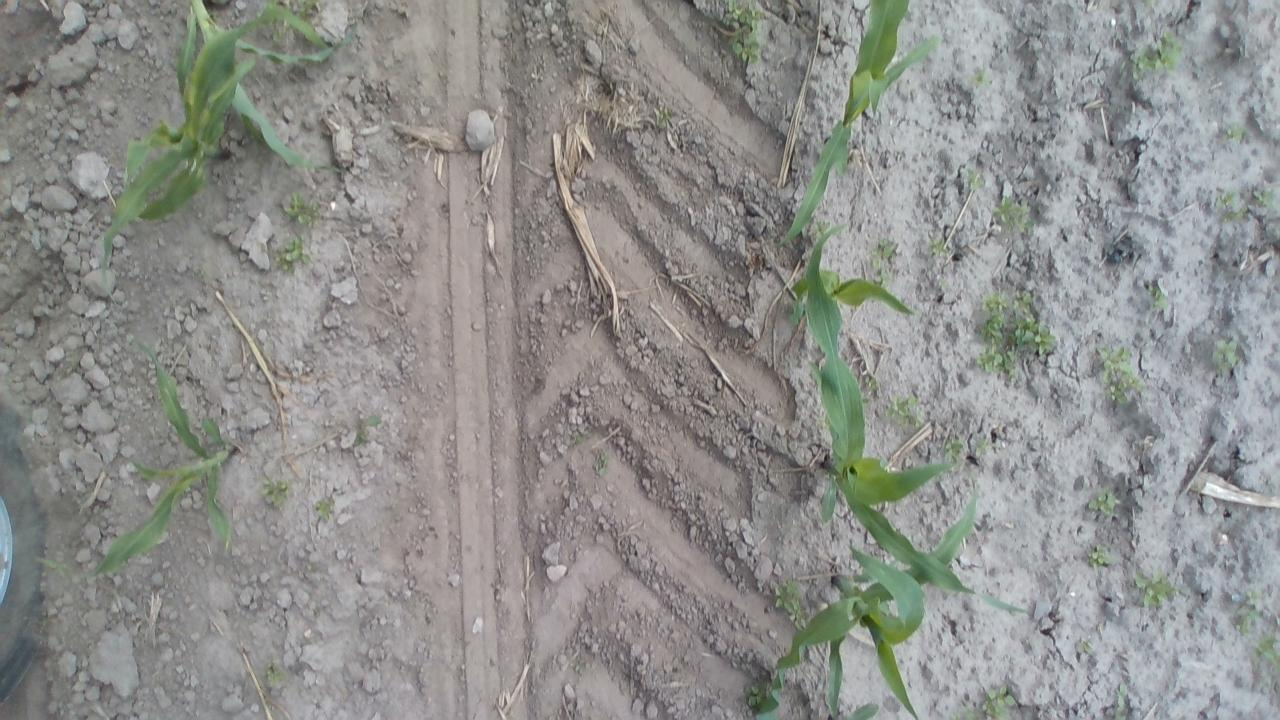Maize: (798, 212, 1036, 616), (88, 0, 336, 303), (752, 493, 976, 719), (778, 0, 951, 245), (81, 332, 245, 581), (180, 1, 354, 63), (778, 264, 921, 338)
Weeds: (970, 282, 1054, 385), (1096, 342, 1146, 406), (722, 0, 768, 68), (1128, 30, 1182, 82), (1130, 568, 1178, 610), (772, 577, 808, 630), (990, 194, 1034, 235), (883, 393, 929, 432), (968, 685, 1022, 718), (1209, 334, 1245, 376), (282, 189, 322, 226), (258, 474, 296, 512), (272, 235, 312, 270), (1212, 187, 1249, 224), (1236, 586, 1262, 636), (350, 412, 382, 448), (870, 236, 900, 274), (1086, 486, 1118, 521), (1110, 680, 1138, 718), (742, 682, 774, 712), (1251, 633, 1275, 672), (1084, 542, 1114, 572), (1218, 120, 1252, 146), (959, 162, 986, 194), (1148, 279, 1172, 314), (942, 434, 966, 465), (586, 447, 612, 475), (263, 660, 287, 690), (974, 437, 1002, 461), (1252, 185, 1276, 211), (312, 496, 334, 524), (924, 236, 952, 258), (970, 63, 990, 90), (654, 103, 674, 130), (863, 372, 882, 398), (567, 428, 591, 448), (950, 703, 982, 718), (1075, 638, 1094, 658), (299, 563, 319, 581)
